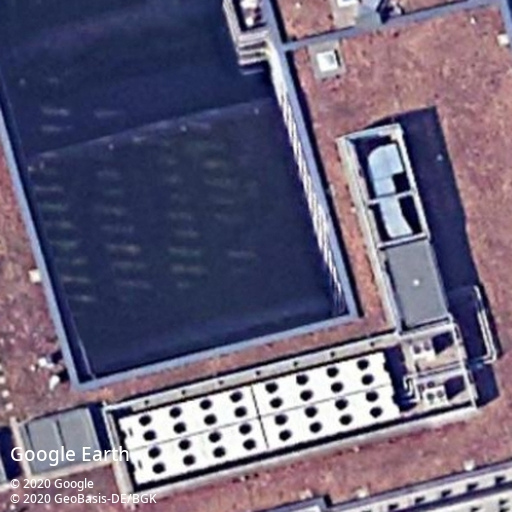Chiller: (117, 351, 402, 485)
